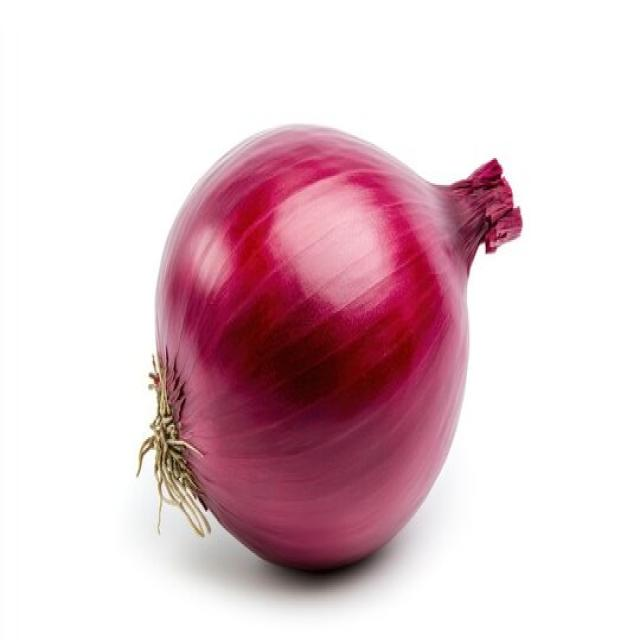Onion: (135, 121, 523, 572)
